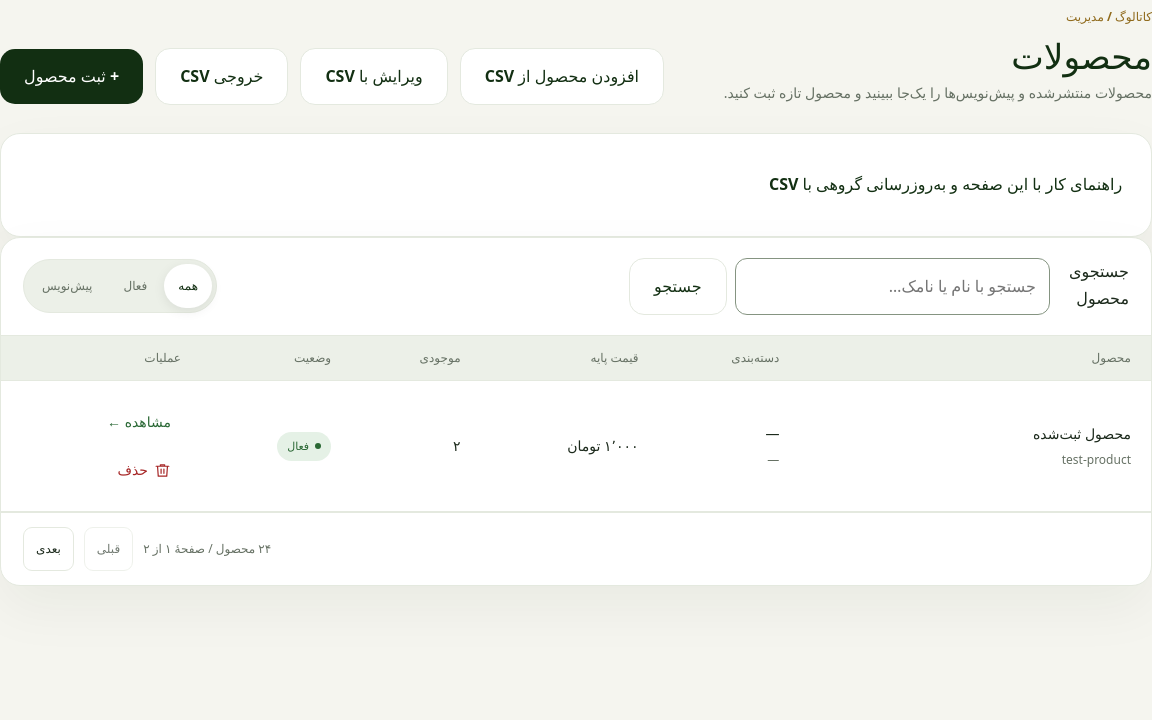
Scenario: preserves the row and unlocks actions after a row deletion fails
This screenshot has width=1152, height=720.
Click the button with aria-label "حذف محصول ثبت‌شده": (144, 470) [108,448,181,492]
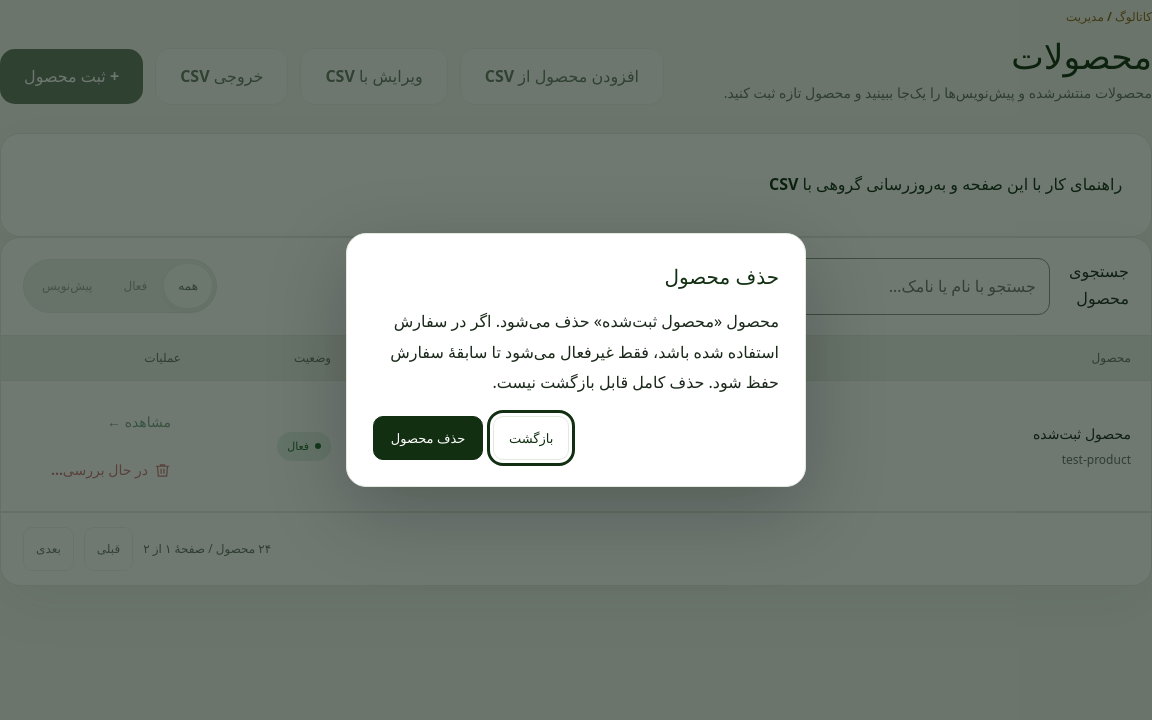
Click the button "حذف محصول": (428, 438) [373,416,483,460]
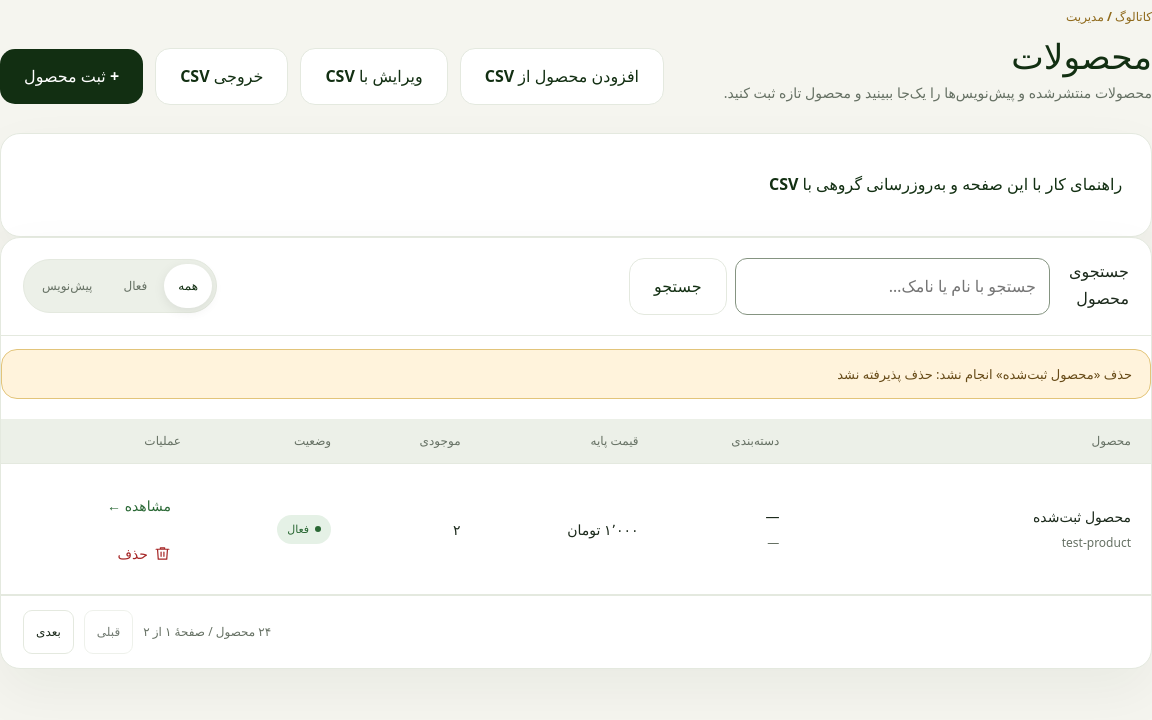
Expected: the text "محصول ثبت‌شده" is shown, [1033,507,1131,526]
Result: the message shows "حذف پذیرفته نشد" at [837,365,1132,383]
Result: the button with aria-label "حذف محصول ثبت‌شده" is enabled at [108,532,181,576]
